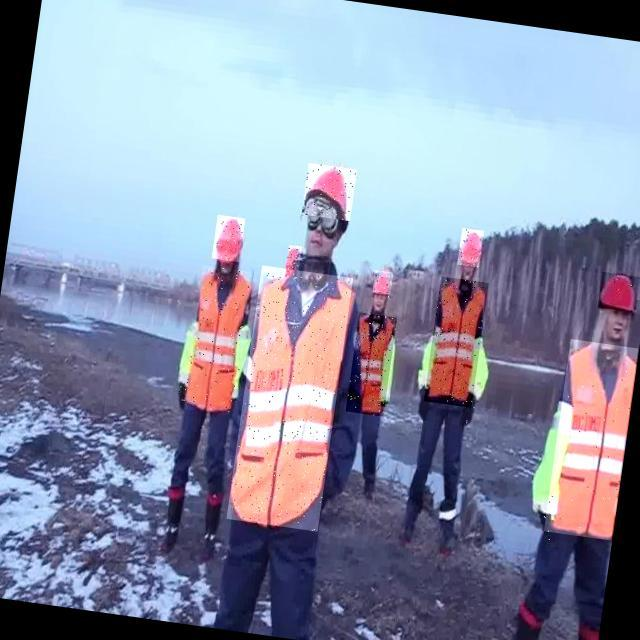Gloves: (168, 375, 191, 416), (416, 381, 438, 417), (460, 389, 479, 427), (533, 510, 555, 531), (376, 391, 392, 415)
Helmet: (302, 164, 359, 222), (597, 272, 640, 313), (212, 216, 246, 263), (458, 228, 485, 268), (372, 271, 394, 300), (287, 246, 304, 273)
Person: (243, 134, 375, 640), (518, 192, 640, 640), (387, 202, 496, 578), (150, 197, 250, 569)
Safety Boot: (155, 483, 193, 561), (390, 487, 429, 556), (196, 487, 229, 557), (430, 498, 463, 567), (359, 464, 382, 507)
Safety Vest: (227, 266, 354, 532), (544, 339, 638, 541), (182, 265, 253, 416), (424, 277, 489, 408), (346, 313, 398, 417), (532, 407, 576, 518), (413, 332, 442, 391), (230, 328, 252, 401), (468, 335, 490, 401), (380, 336, 399, 411), (178, 323, 199, 380)
